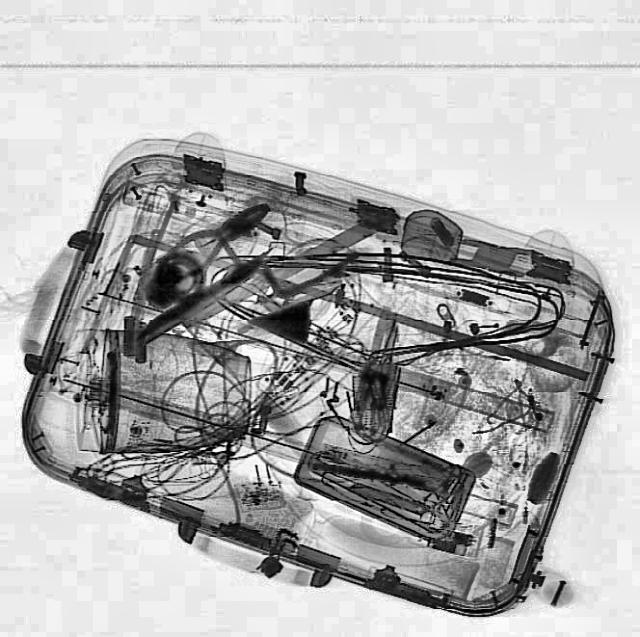Pliers: (139, 190, 279, 294)
